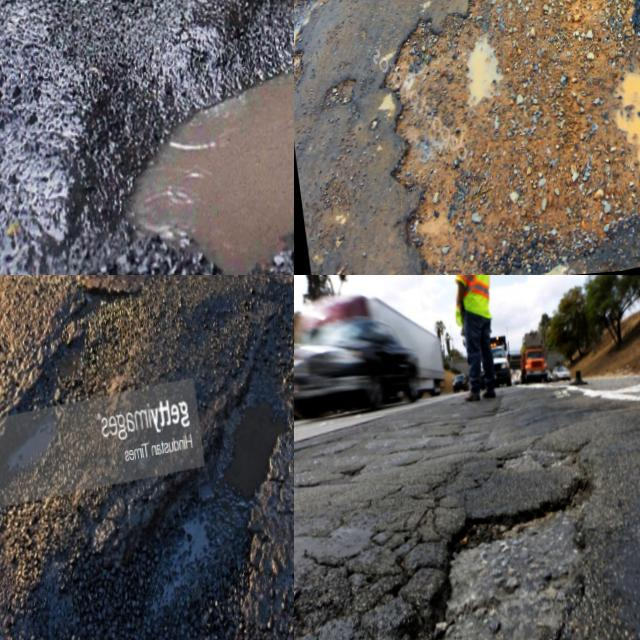Potholes: (7, 0, 294, 275), (347, 437, 640, 640), (448, 0, 640, 275), (151, 304, 294, 621), (0, 275, 154, 561), (294, 0, 390, 131)
